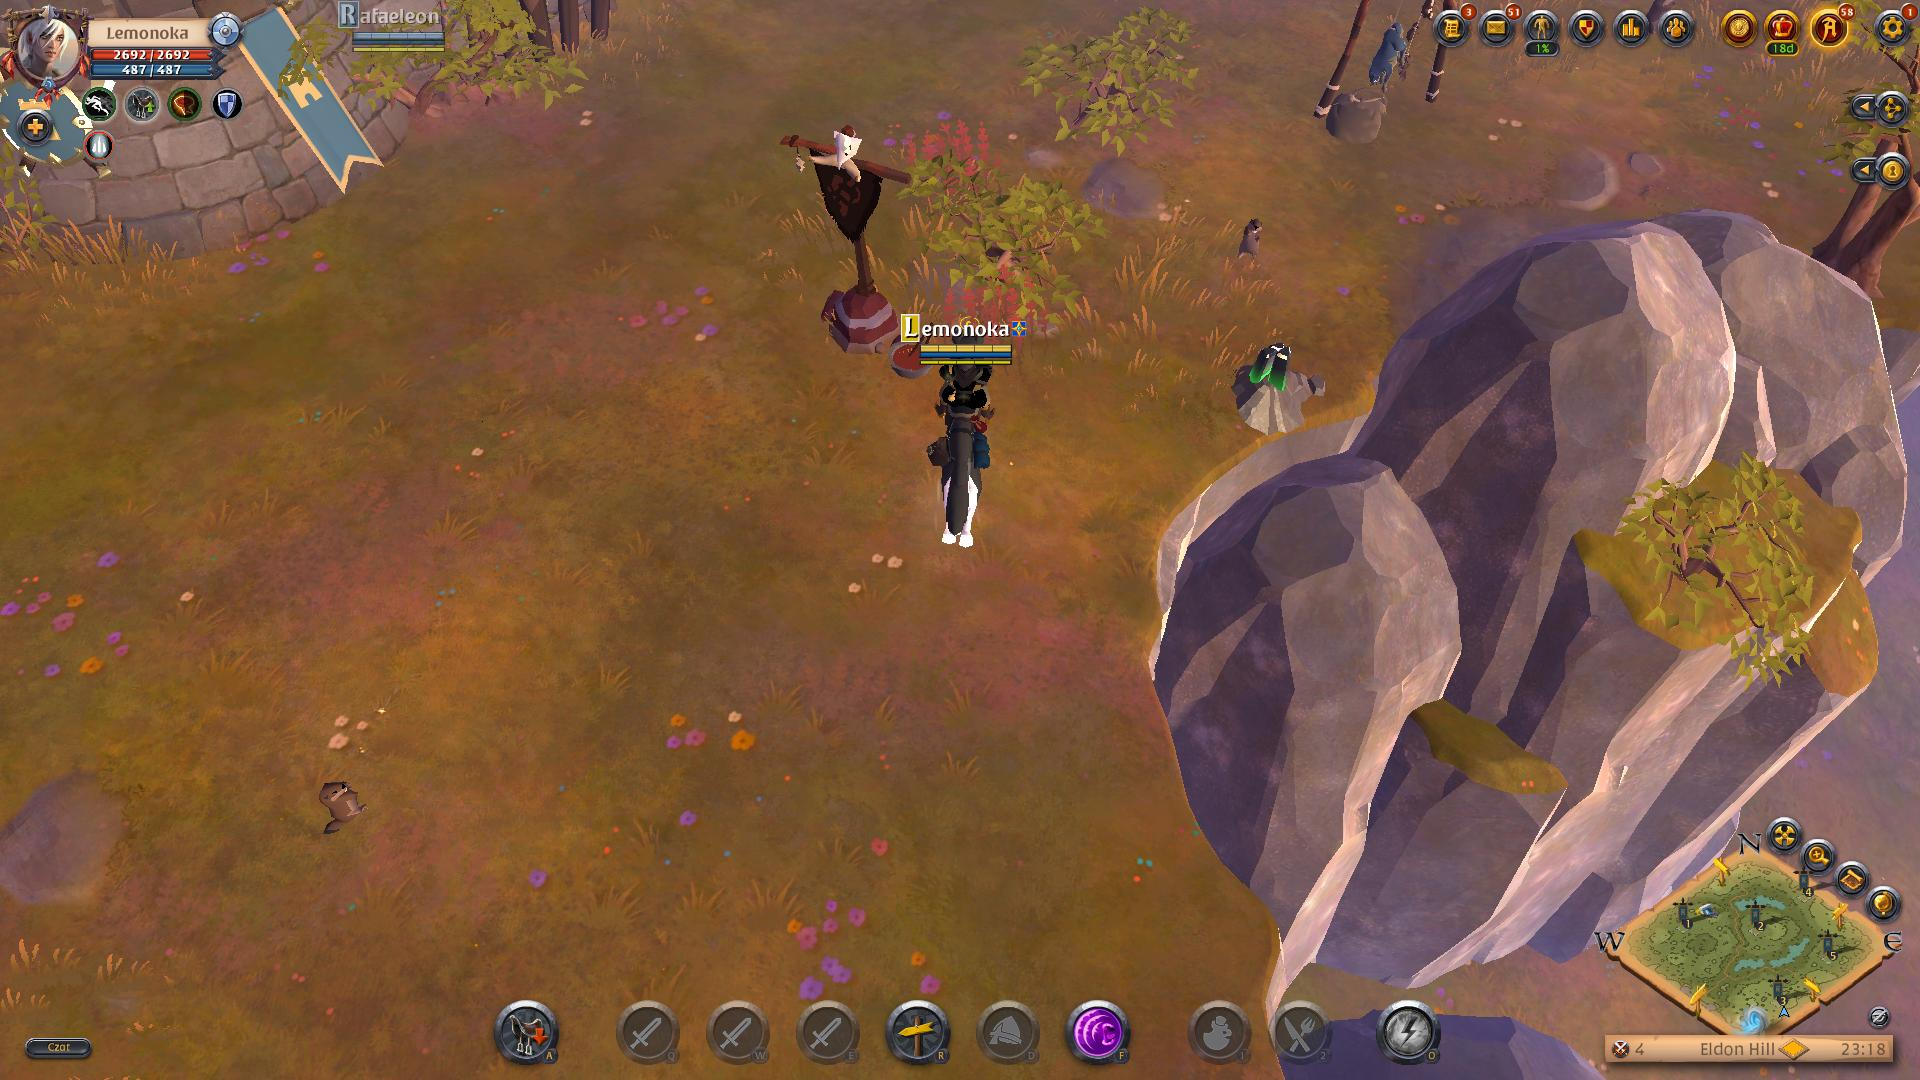ore tier 3: (1224, 334, 1313, 440)
